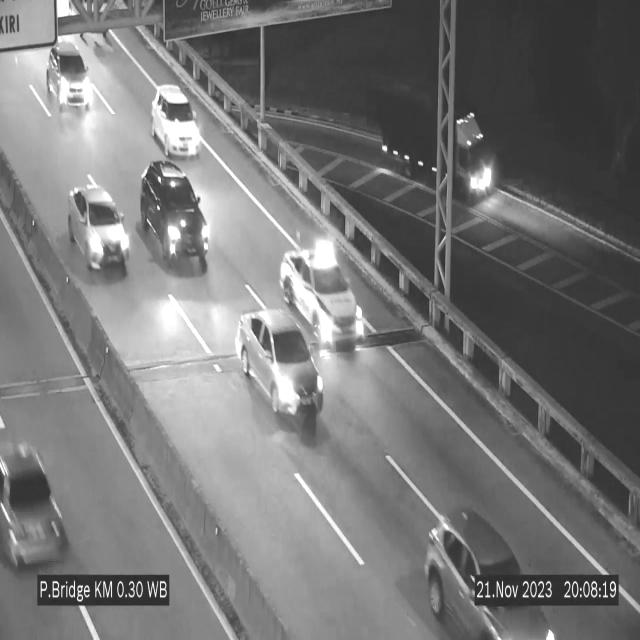Car: (419, 479, 561, 640), (0, 420, 83, 578), (236, 311, 324, 435), (280, 225, 360, 349), (141, 161, 209, 275), (68, 185, 129, 272), (151, 85, 201, 156), (48, 39, 93, 117)
Truck: (378, 73, 499, 209)
